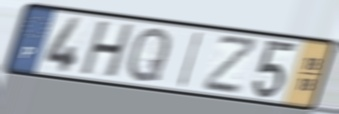4: (42, 15, 84, 75)
5: (252, 37, 299, 100)
H: (78, 20, 137, 81)
I: (175, 30, 205, 90)
Q: (125, 25, 173, 85)
Z: (201, 35, 261, 95)
